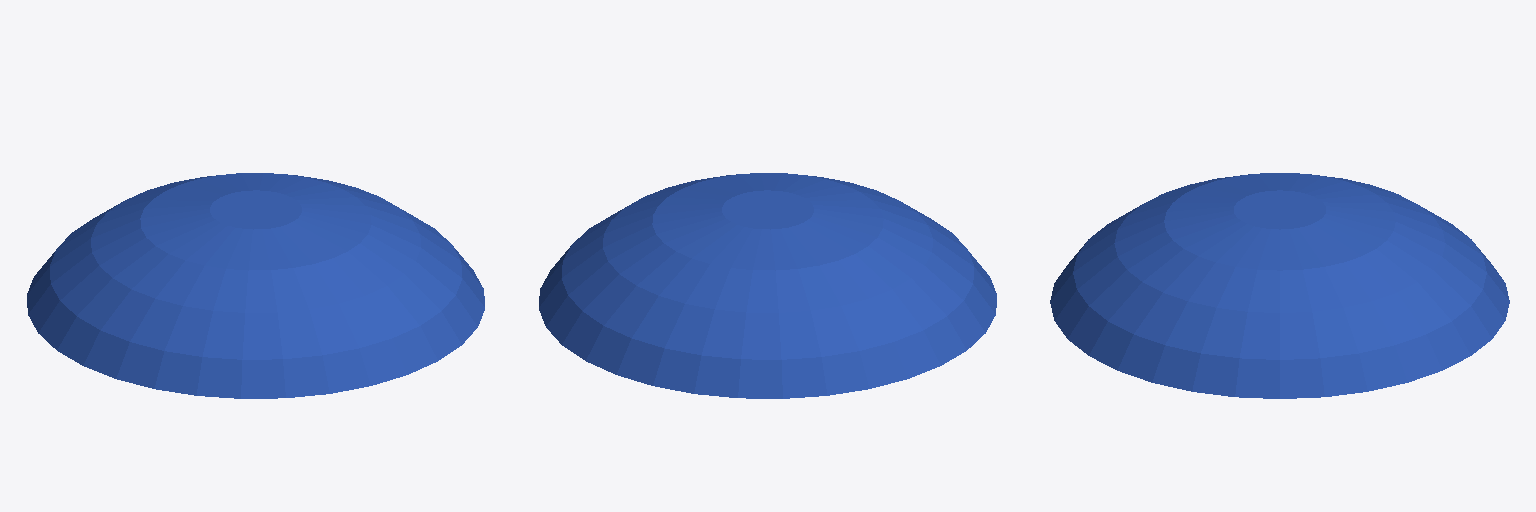
Rendered from meja4-4.obj.
3 views of the same model, side by side, from view 1: azimuth 30°, elevation 25°; view 2: azimuth 150°, elevation 25°; view 3: azimuth 270°, elevation 25° (orthographic).
Visible parts, largest first — view 1: Cube.035_Cube.376_Cube.035_Cube.001; view 2: Cube.035_Cube.376_Cube.035_Cube.001; view 3: Cube.035_Cube.376_Cube.035_Cube.001.
Boxes of the visible parts, x1,y1,x2,y2 form: Cube.035_Cube.376_Cube.035_Cube.001: [27, 173, 484, 398]; Cube.035_Cube.376_Cube.035_Cube.001: [539, 173, 996, 398]; Cube.035_Cube.376_Cube.035_Cube.001: [1050, 173, 1509, 398].
Bounding box in the file's own units: 0.7724 × 0.1706 × 0.7724.